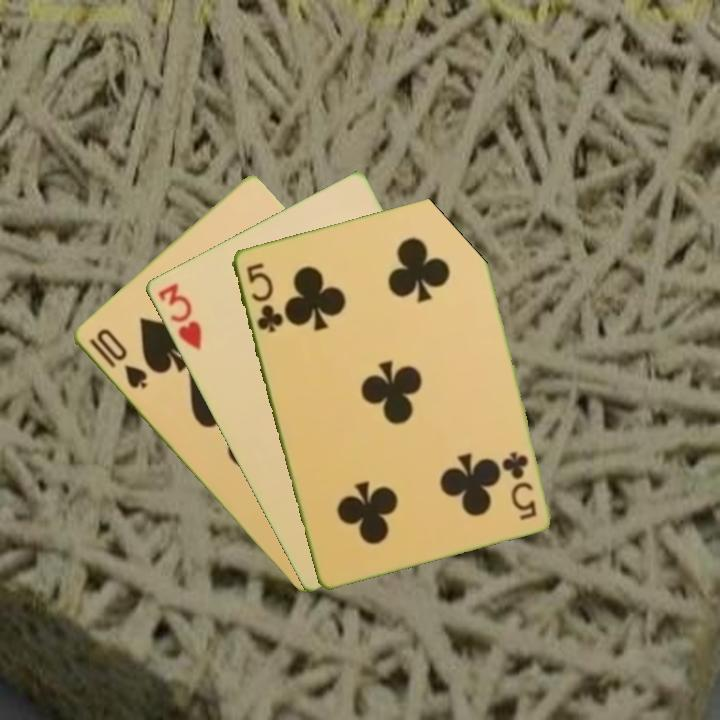10s: (85, 324, 150, 392)
3h: (154, 279, 204, 353)
5c: (242, 259, 286, 335), (501, 447, 539, 523)
